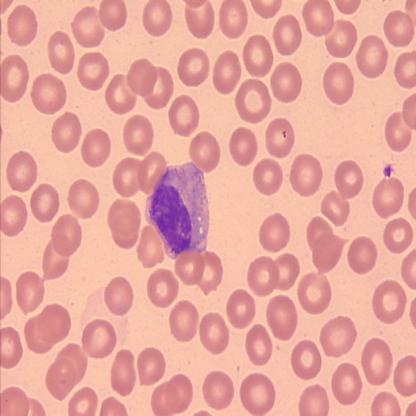Metamyelocyte: (143, 159, 214, 262)
